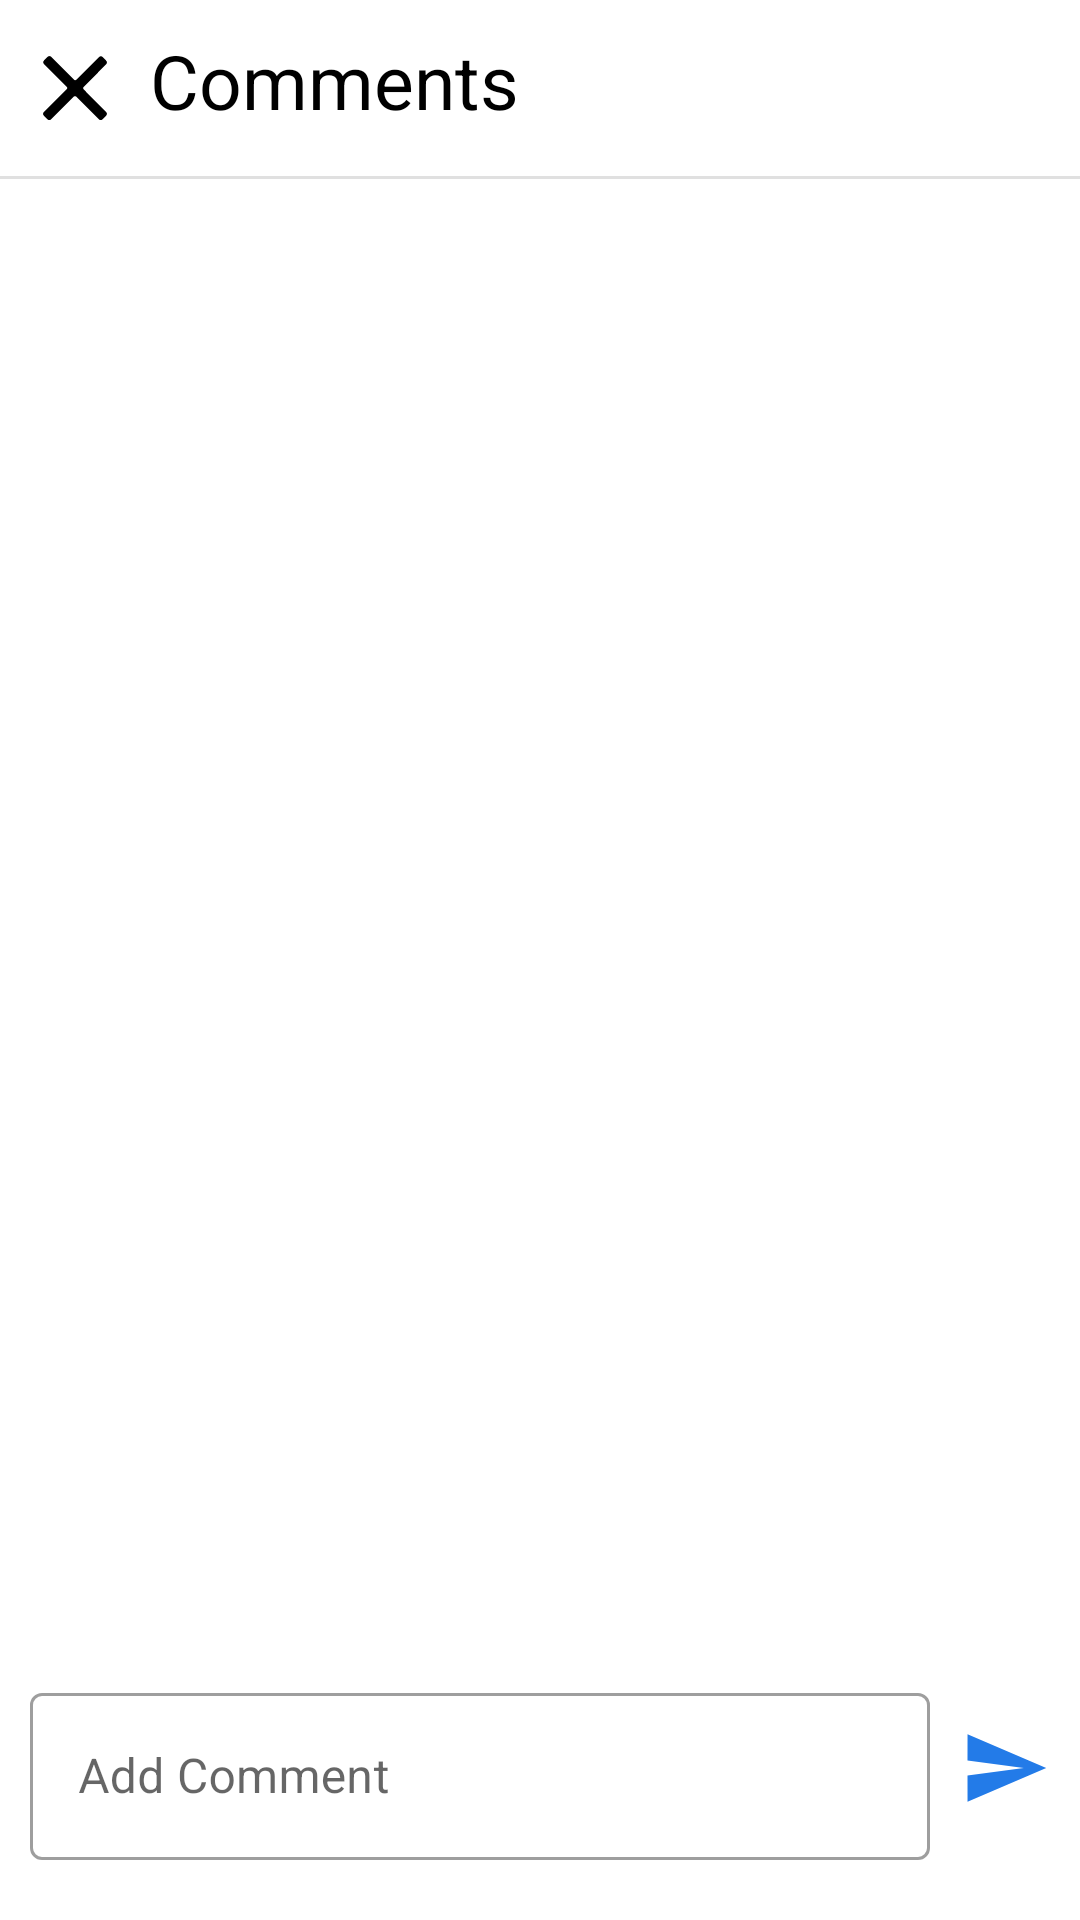

Icons on this 1080 x 1920 Android screen, each with the point to tap as point (x, y):
close: point (75, 88)
send: point (1006, 1768)
